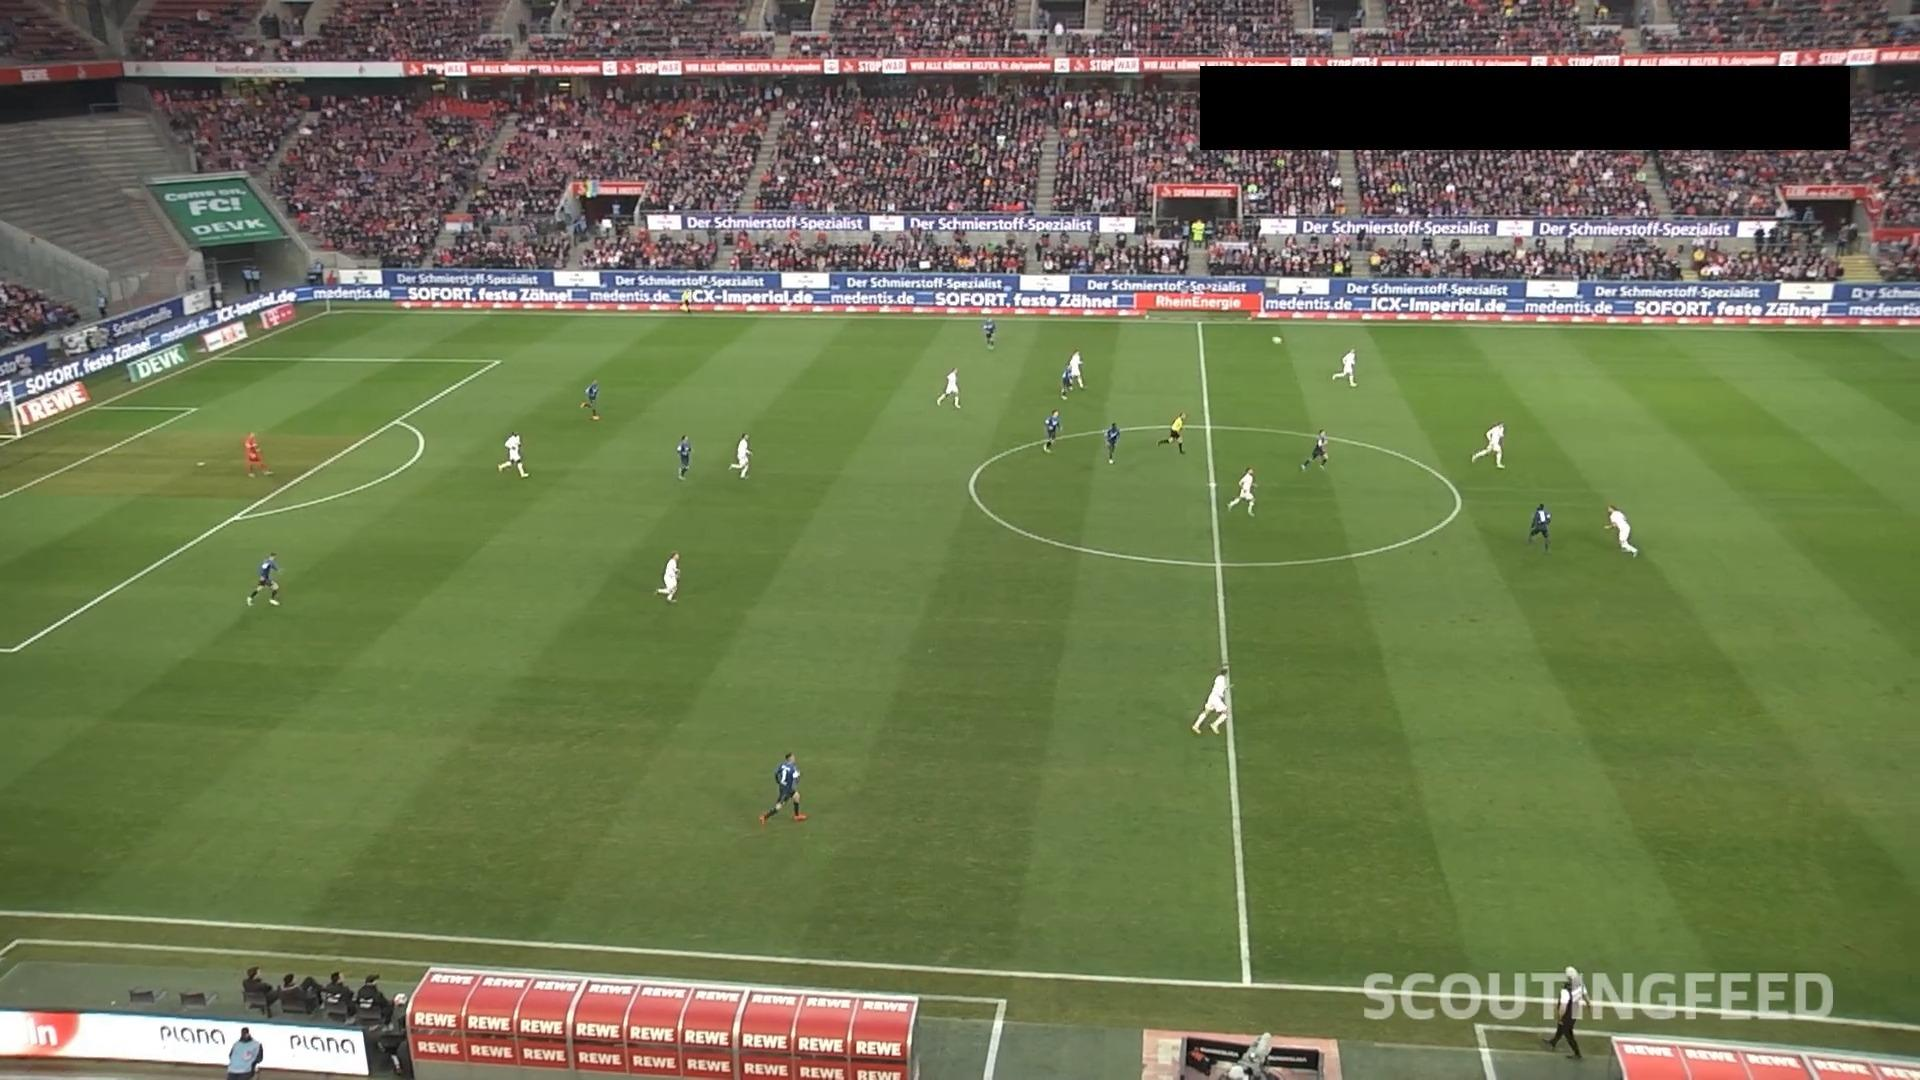ball: (1271, 335, 1283, 344)
